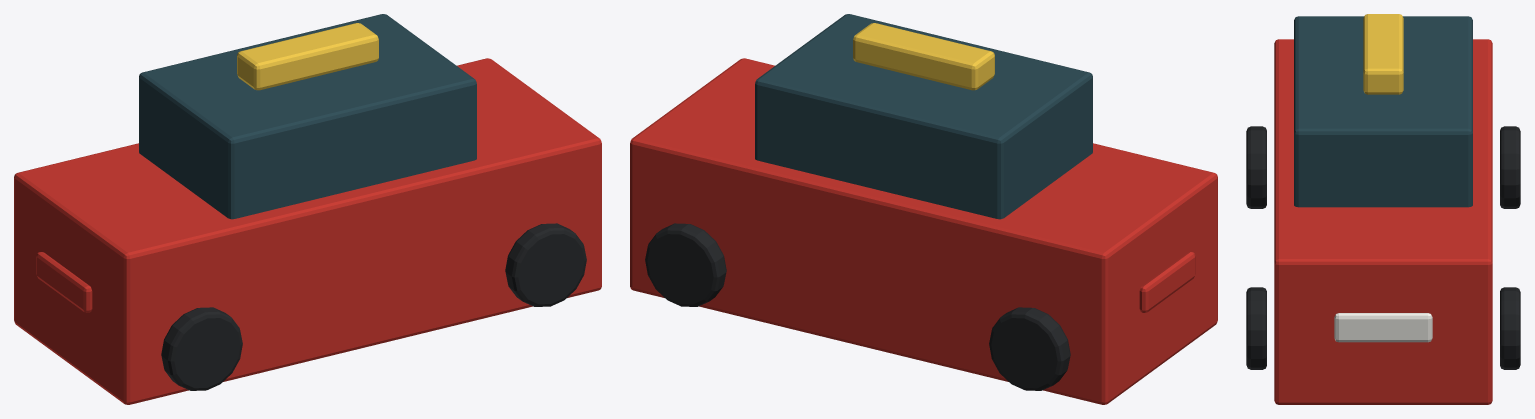
File: Vehicle_007.glb
3 renders of one model, left to right at view 1: azimuth 30°, elevation 25°; view 2: azimuth 150°, elevation 25°; view 3: azimuth 270°, elevation 25°, orthographic. The views are drawn at different scales.
Visible parts, largest first — view 1: Vehicle_007; view 2: Vehicle_007; view 3: Vehicle_007.
Part boxes in pixels (x1,y1,x2,y2): Vehicle_007: [14, 14, 601, 404]; Vehicle_007: [630, 14, 1217, 404]; Vehicle_007: [1246, 14, 1520, 404].
Bounding box in the file's own units: 4.77 × 2.44 × 2.38.
